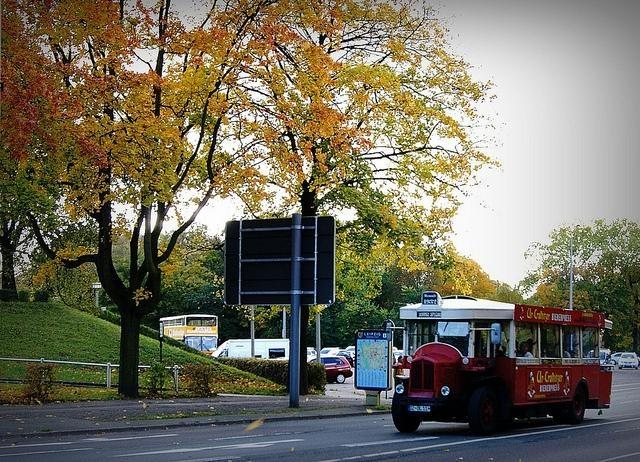bus: (392, 286, 614, 432), (160, 315, 218, 355)
car: (311, 356, 354, 382), (618, 352, 640, 370), (588, 350, 612, 366), (336, 351, 355, 368), (606, 351, 622, 364)
truck: (210, 338, 288, 358)
